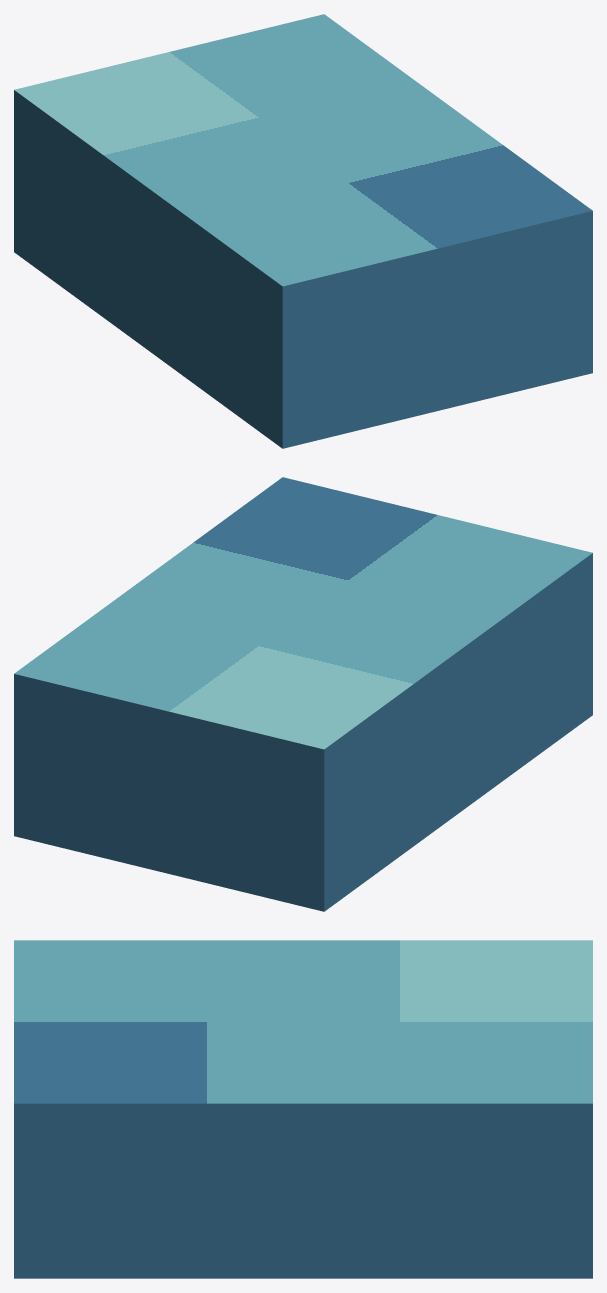
File: bridge_fragment.glb
The picture shows the model from 3 angles, top to bottom: view 1: azimuth 30°, elevation 25°; view 2: azimuth 150°, elevation 25°; view 3: azimuth 270°, elevation 25°; orthographic projection. The views are drawn at different scales.
Visible parts, largest first — view 1: bridge_fragment; view 2: bridge_fragment; view 3: bridge_fragment.
Part boxes in pixels (x1=…): bridge_fragment: x1=14, y1=14, x2=592, y2=448; bridge_fragment: x1=14, y1=477, x2=592, y2=911; bridge_fragment: x1=14, y1=940, x2=592, y2=1278.
Bounding box in the file's own units: 2 × 1 × 3.
Materials: 1 (1 with a texture image).
